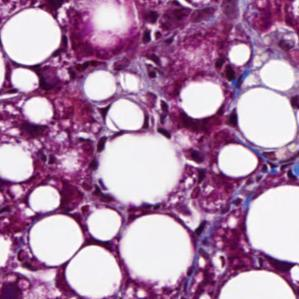inflammation: (14, 112, 54, 154), (210, 51, 249, 91)
